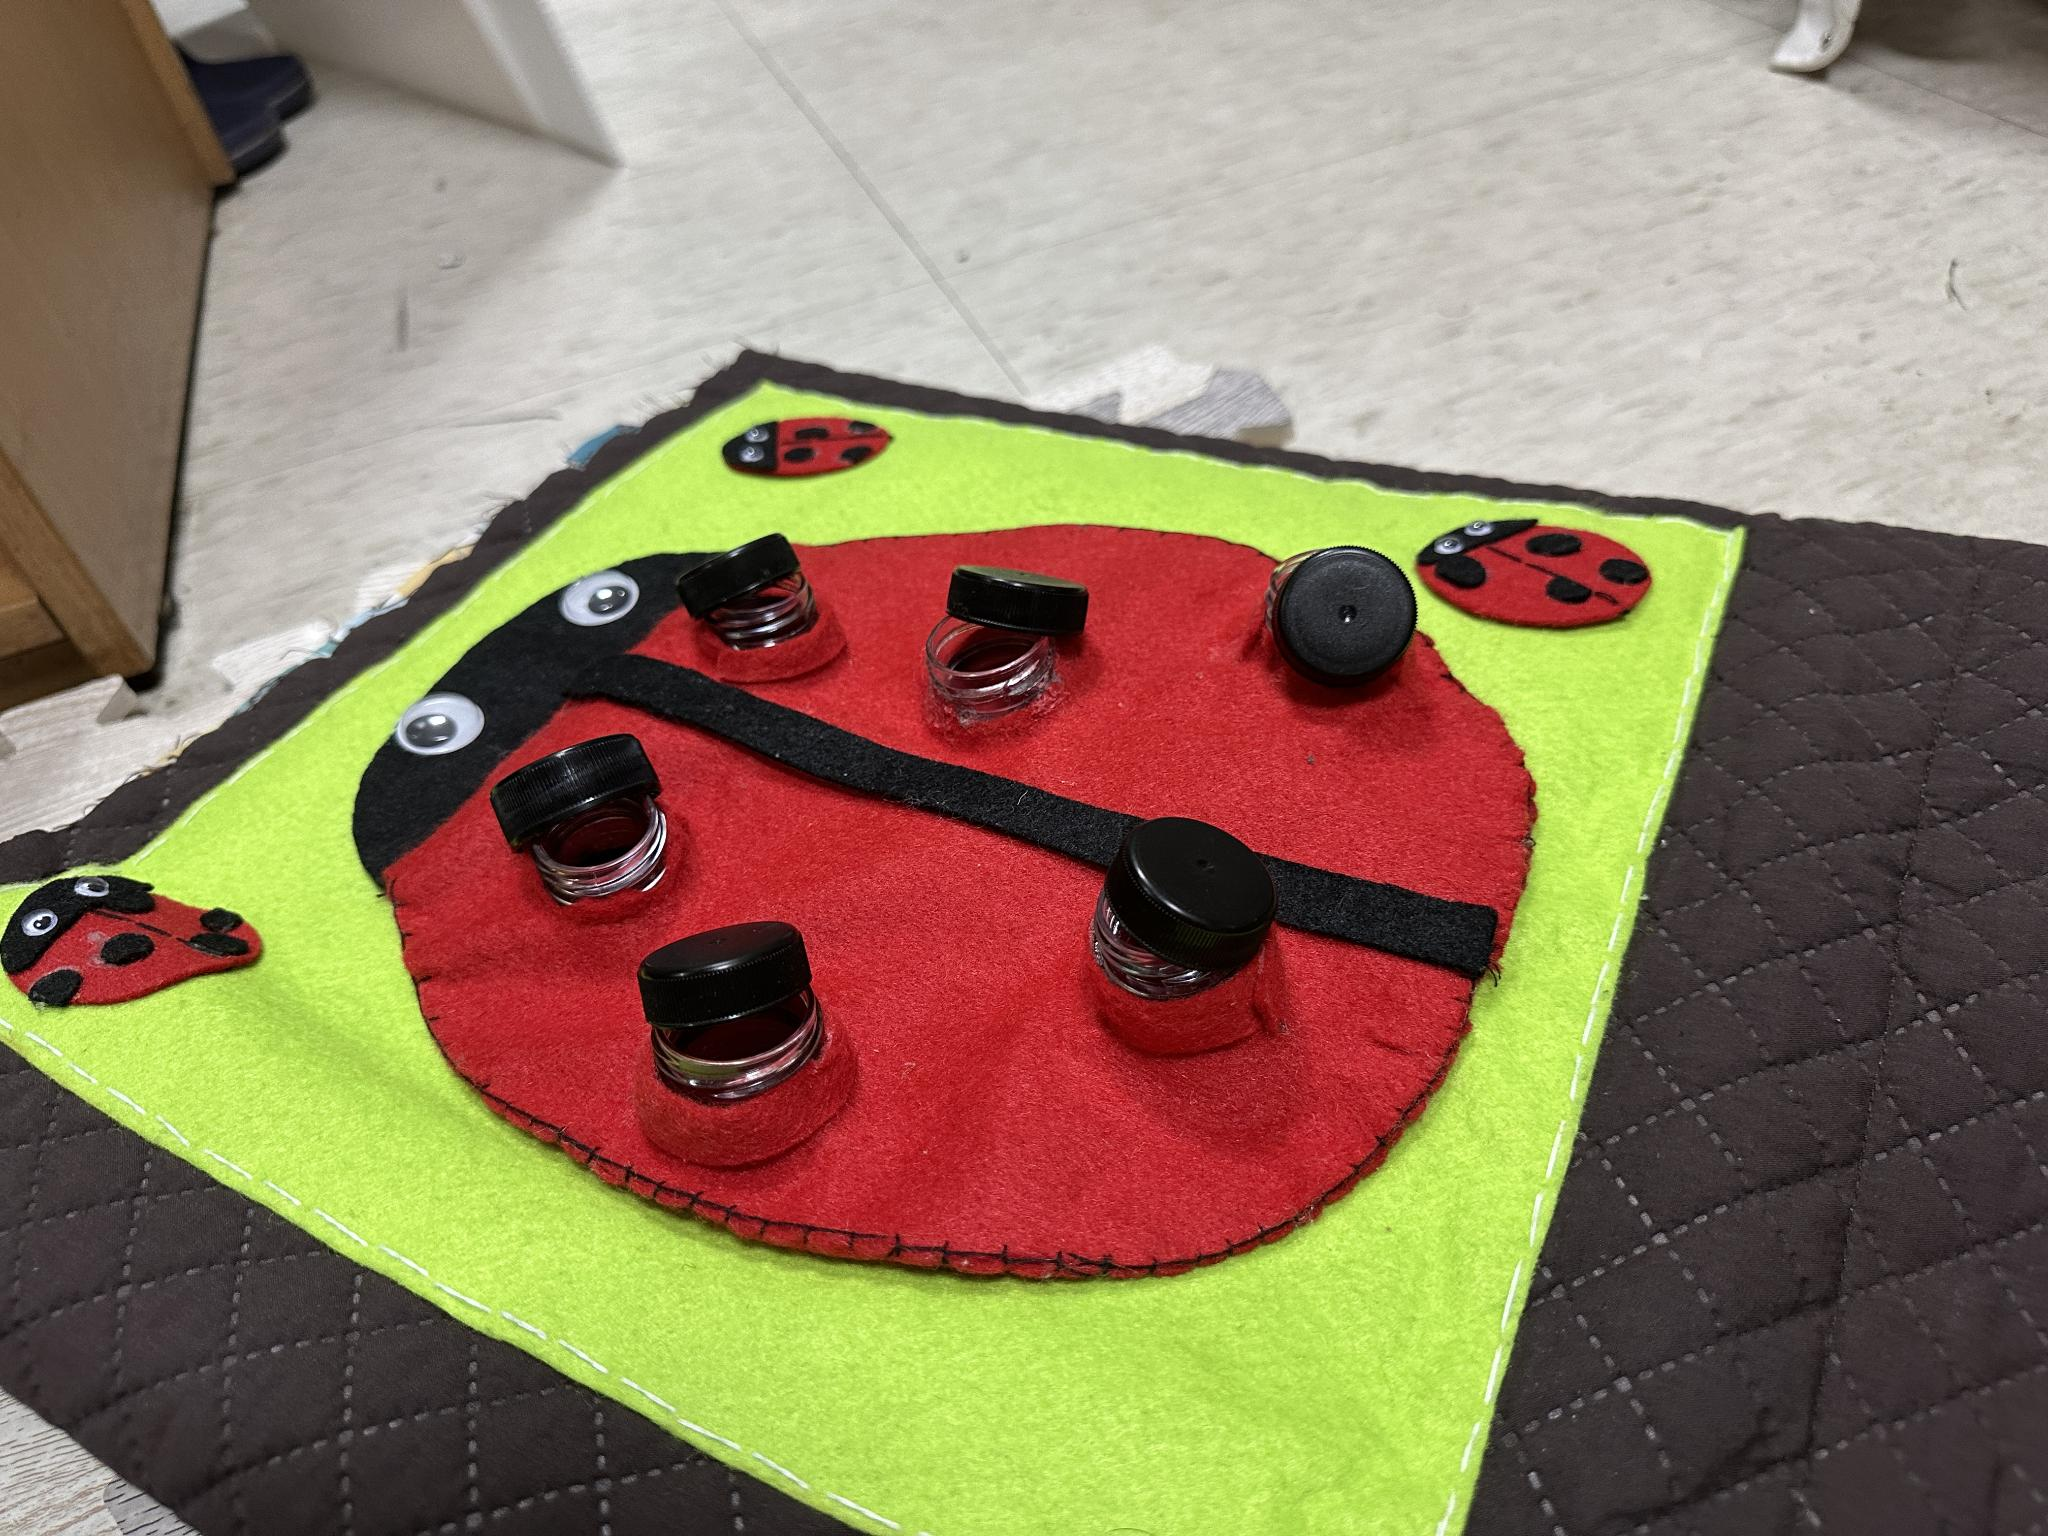cap_ng: (619, 905, 850, 1187), (1074, 805, 1308, 1063), (485, 728, 697, 923), (1237, 529, 1442, 699), (913, 552, 1093, 742), (676, 520, 855, 699)
